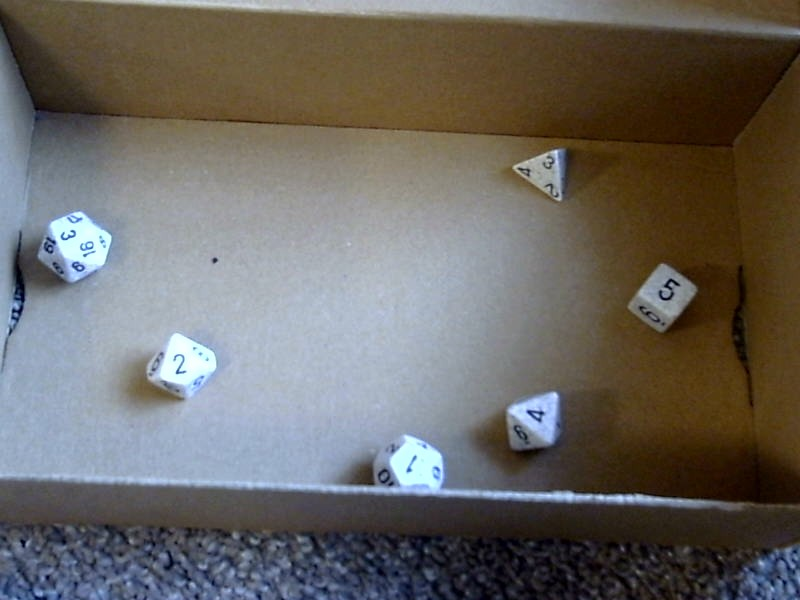d10 2: (135, 329, 218, 405)
d12 1: (366, 420, 452, 498)
d20 3: (32, 204, 118, 290)
d4 3: (502, 139, 578, 210)
d6 5: (619, 256, 699, 339)
d8 4: (498, 381, 571, 467)
